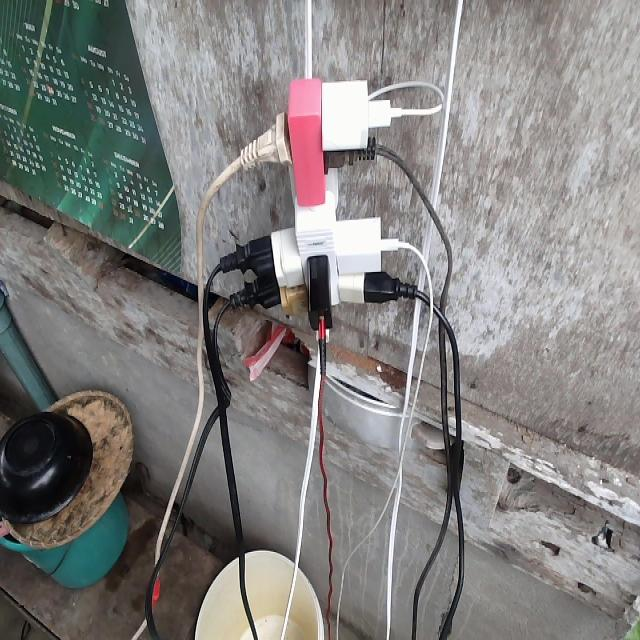-: (226, 73, 414, 352)
